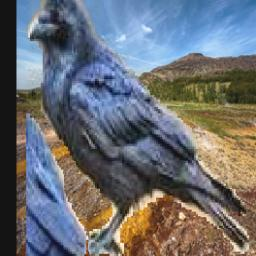Crow: (27, 0, 256, 256)
